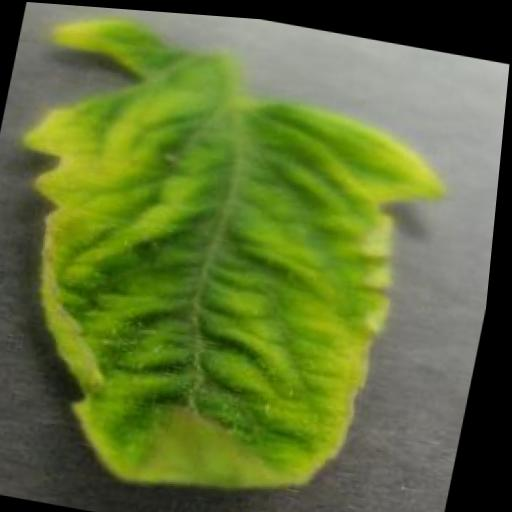Yellow Leaf Curl Virus: (0, 0, 471, 512)
